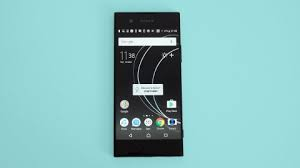sony: (111, 9, 187, 160)
